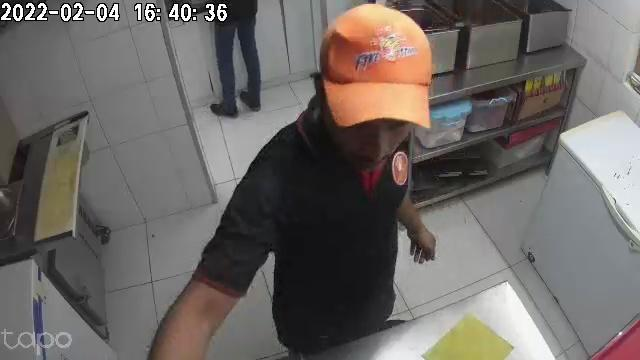no_gloves: (406, 224, 437, 264)
